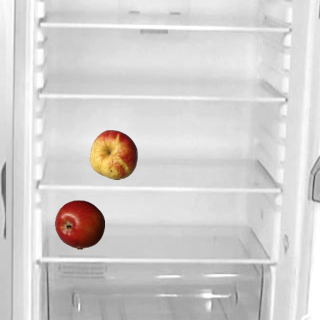Apple Braeburn: (54, 199, 104, 249)
Apple Red Yellow 1: (88, 129, 138, 179)
